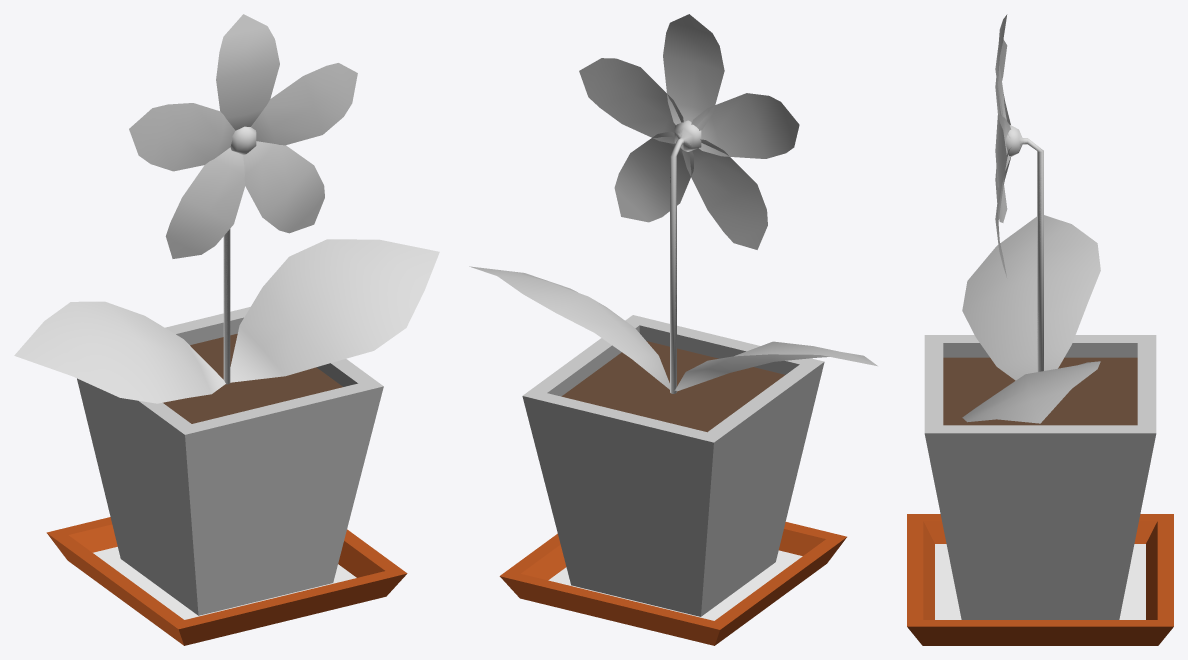
Rendered from Flower.fbx.
3 renders of one model, left to right at view 1: azimuth 30°, elevation 25°; view 2: azimuth 150°, elevation 25°; view 3: azimuth 270°, elevation 25°, orthographic. The views are drawn at different scales.
Visible parts, largest first — view 1: Pot, Flower, Petal, Sauser; view 2: Pot, Petal, Sauser, Flower; view 3: Pot, Flower, Sauser, Petal.
Part boxes in pixels (left/top/right/bottom): Pot: left=77, top=307, right=383, bottom=615; Flower: left=14, top=126, right=439, bottom=403; Petal: left=129, top=14, right=357, bottom=258; Sauser: left=46, top=517, right=407, bottom=645; Pot: left=522, top=315, right=824, bottom=616; Petal: left=579, top=14, right=799, bottom=249; Sauser: left=499, top=522, right=846, bottom=645; Flower: left=469, top=120, right=877, bottom=393; Pot: left=924, top=335, right=1156, bottom=619; Flower: left=962, top=125, right=1100, bottom=423; Sauser: left=907, top=514, right=1173, bottom=645; Petal: left=995, top=14, right=1010, bottom=277.
Size of the model in its own units: 35.08 by 45.39 by 18.86.
